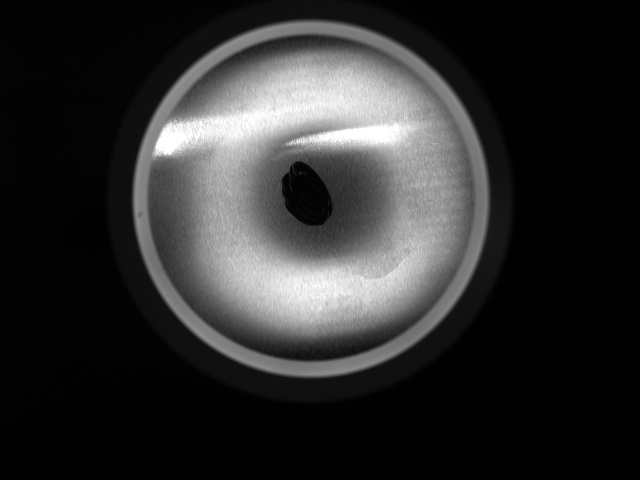zang_wu: (278, 157, 337, 228)
